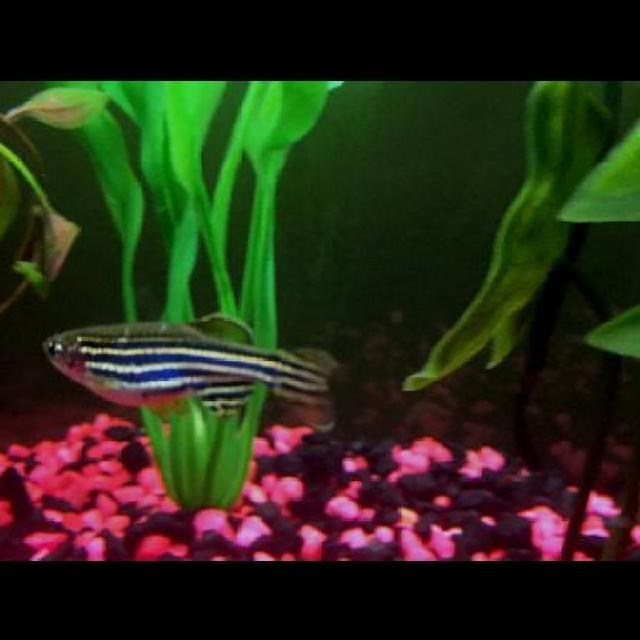ZebraFish: (40, 311, 348, 427)
